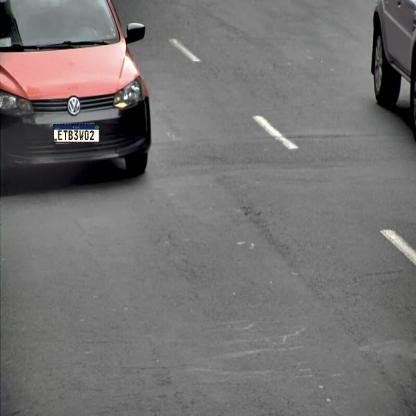PlacaM: (53, 124, 100, 143)
